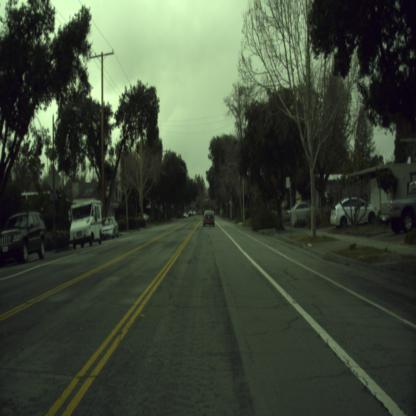Green: (190, 202, 192, 207), (203, 198, 204, 202)
Red: (208, 197, 210, 202), (213, 202, 214, 207)
